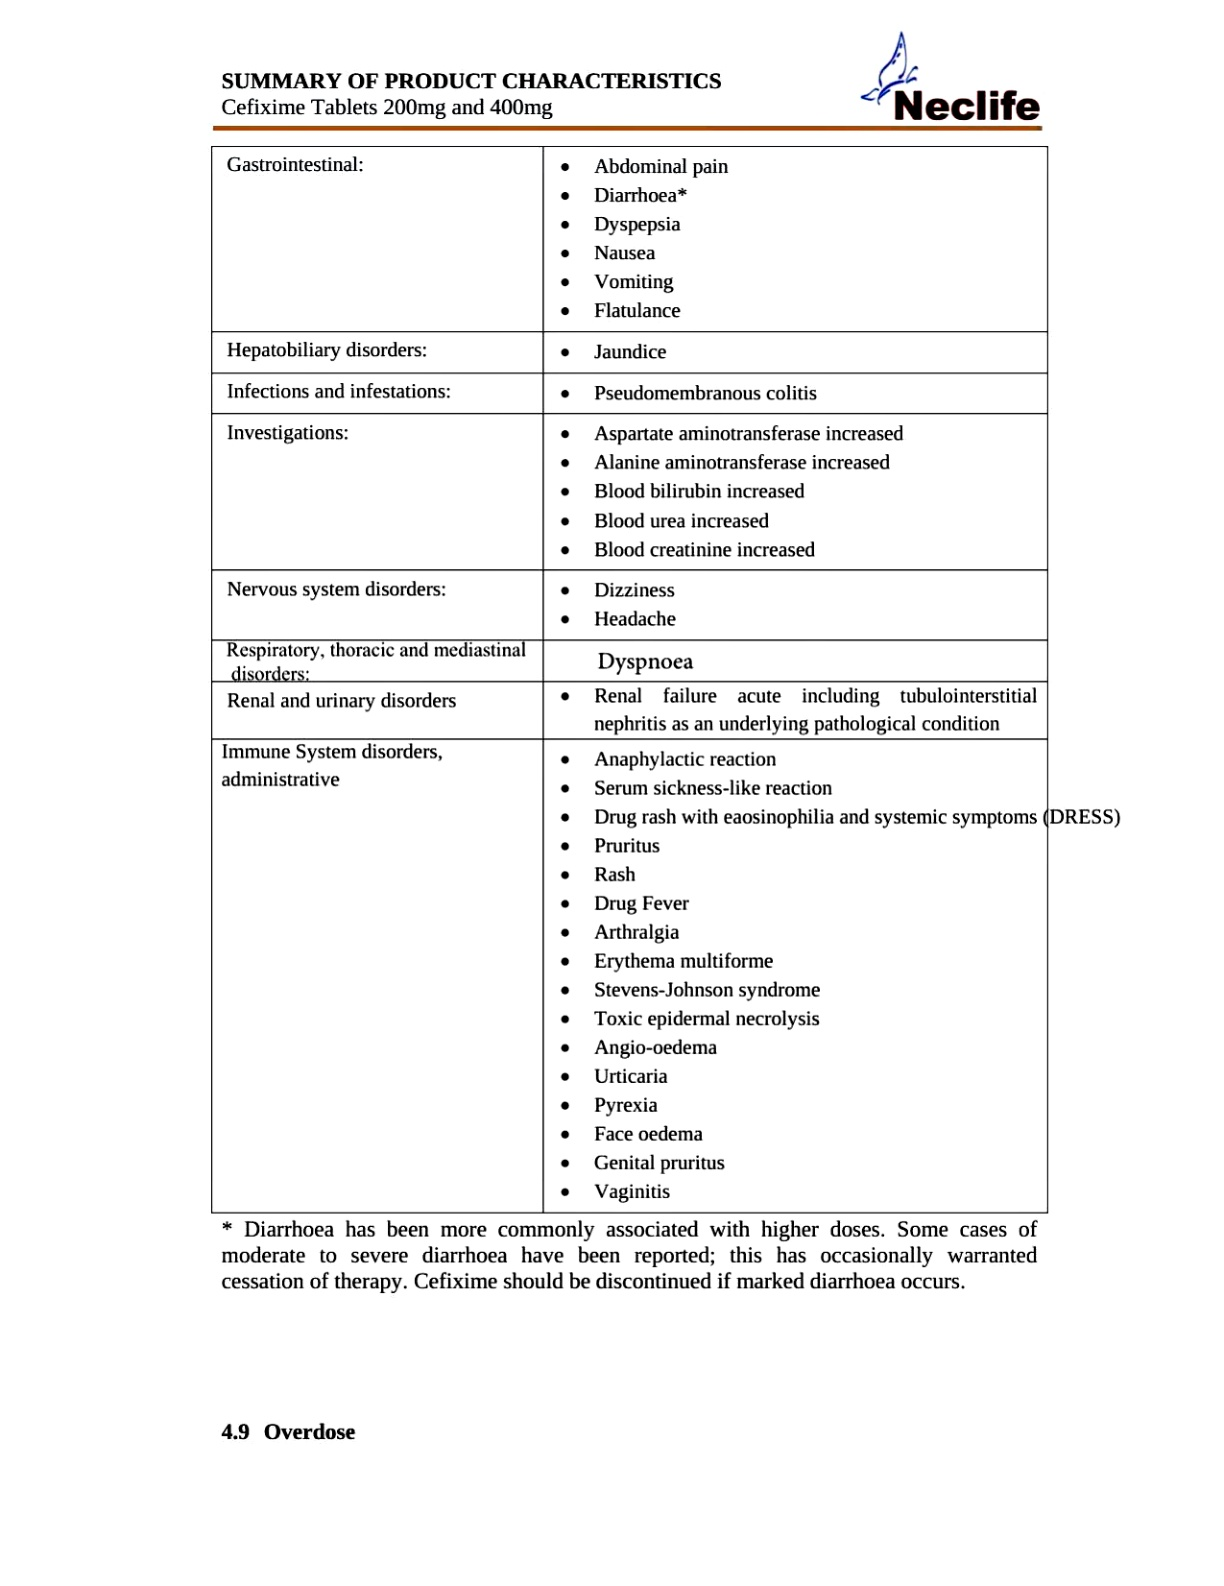full_lined: (210, 144, 1049, 1215)
